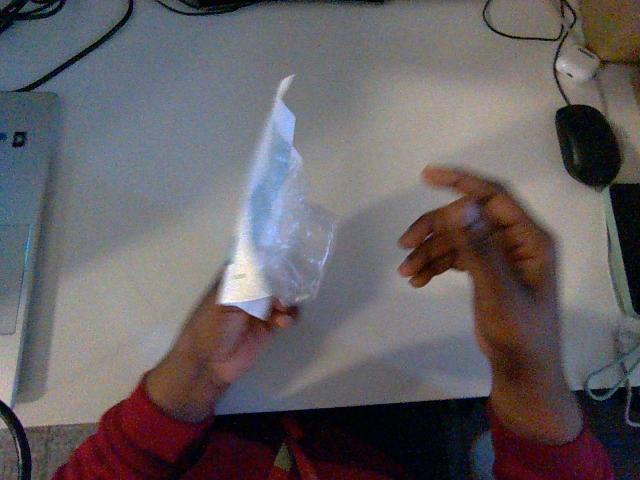gallipot: (218, 76, 334, 318)
